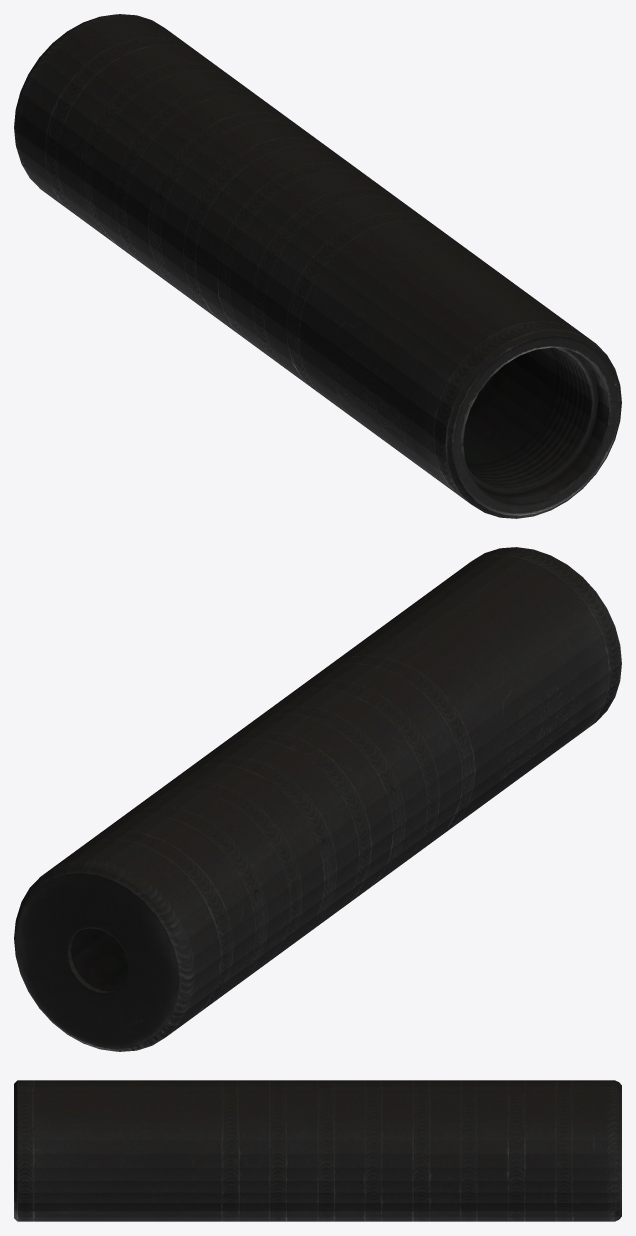
The picture shows the model from 3 angles, top to bottom: view 1: azimuth 30°, elevation 25°; view 2: azimuth 150°, elevation 25°; view 3: azimuth 270°, elevation 25°; orthographic projection. The views are drawn at different scales.
Visible parts, largest first — view 1: TW_5fc4b9b17283c4046c5814d7_PZ_Import; view 2: TW_5fc4b9b17283c4046c5814d7_PZ_Import; view 3: TW_5fc4b9b17283c4046c5814d7_PZ_Import.
Part boxes in pixels (x1,y1,x2,y2): TW_5fc4b9b17283c4046c5814d7_PZ_Import: [14, 14, 621, 518]; TW_5fc4b9b17283c4046c5814d7_PZ_Import: [14, 547, 621, 1051]; TW_5fc4b9b17283c4046c5814d7_PZ_Import: [14, 1080, 621, 1221].
Size of the model in its own units: 0.0217 by 0.0935 by 0.0217.
Materials: 1 (1 with a texture image).
